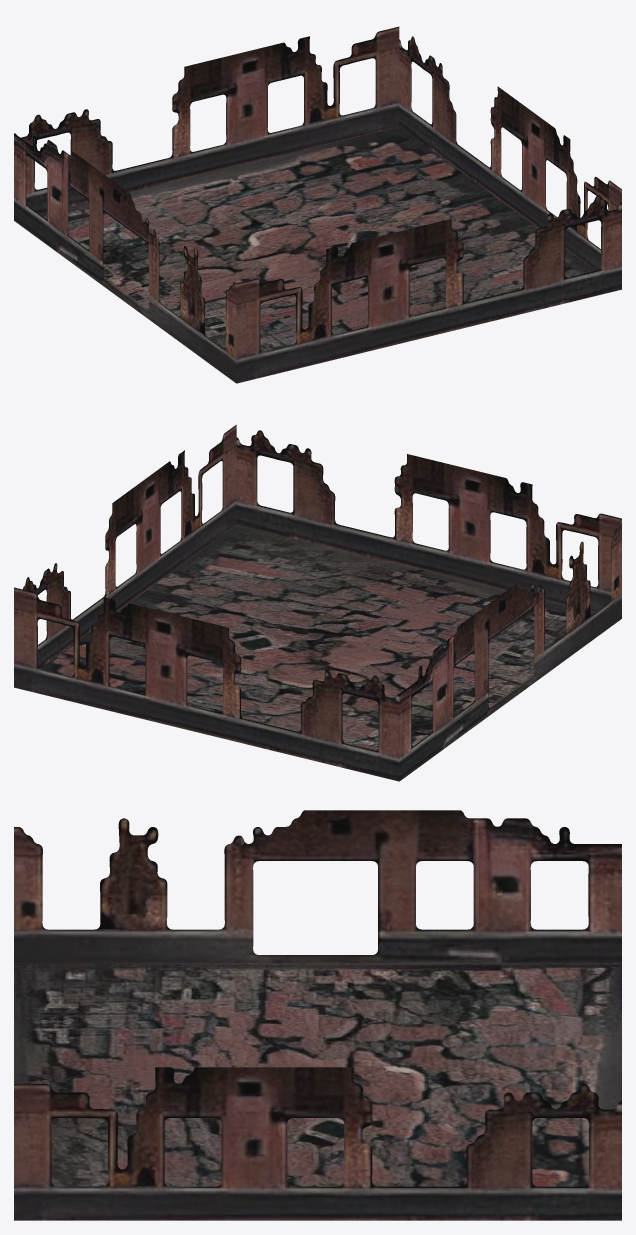
The model's file is city2storya_dam_hdtex.glb.
3 views of the same model, one above another, from view 1: azimuth 30°, elevation 25°; view 2: azimuth 150°, elevation 25°; view 3: azimuth 270°, elevation 25° (orthographic). The views are drawn at different scales.
Parts seen in each view (by area): view 1: City2StoryA; view 2: City2StoryA; view 3: City2StoryA.
Part boxes in pixels (left/top/right/bottom): City2StoryA: left=14, top=26, right=621, bottom=383; City2StoryA: left=14, top=424, right=621, bottom=781; City2StoryA: left=14, top=810, right=621, bottom=1220.
Bounding box in the file's own units: 17.76 × 4.95 × 17.76.
1 material, 1 textured.
